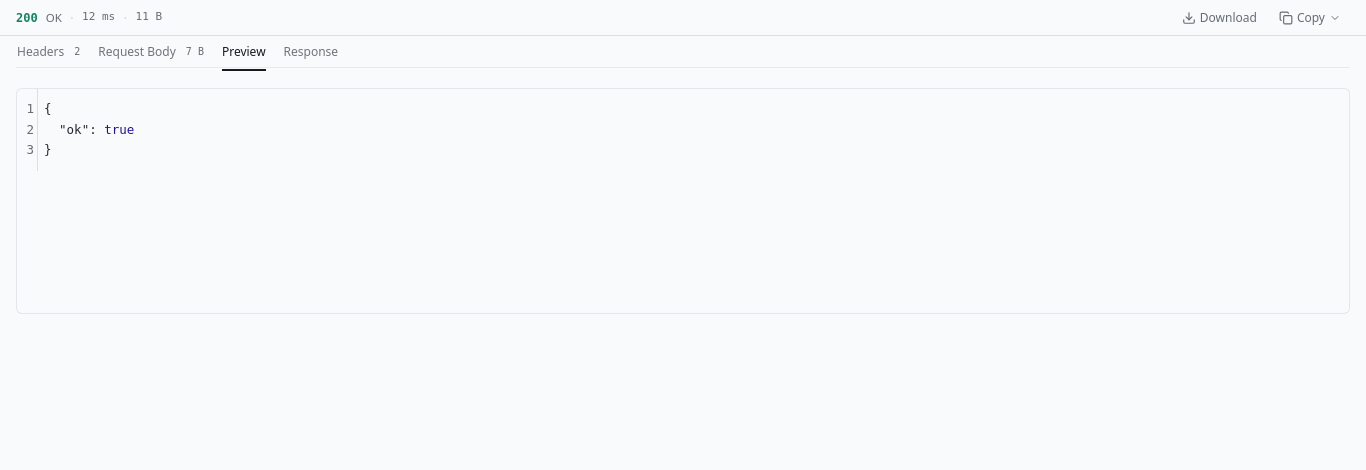
Test case: ResponsePanel — tabs › lists request and response headers under Headers
Click the tab "Headers 2".
click(49, 52)  # box [16, 36, 81, 66]
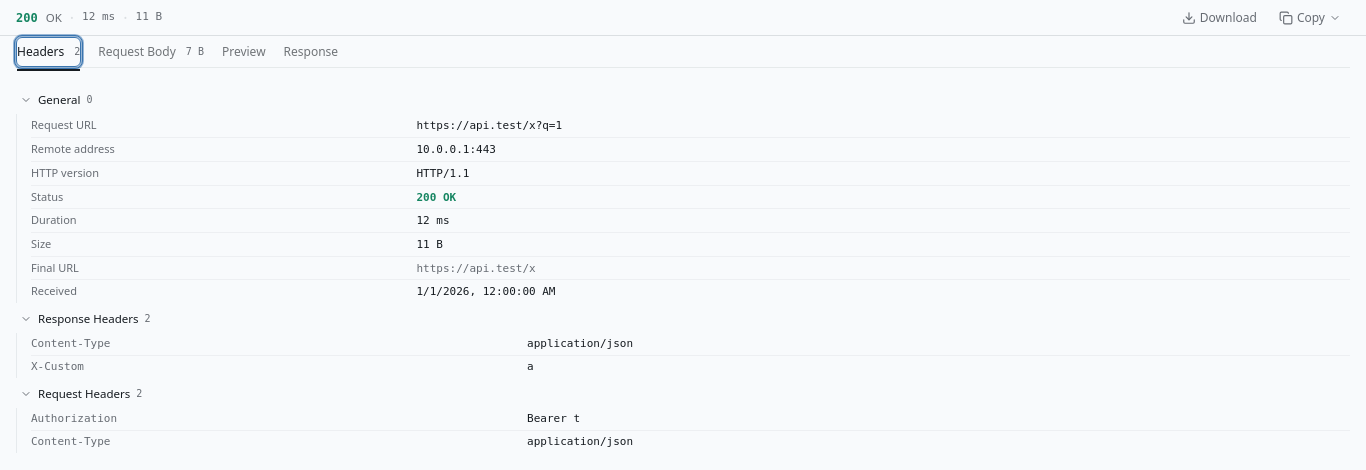
Expected: the text "General" is shown, [38, 92, 80, 108]
Expected: the text "Response Headers" is shown, [38, 311, 138, 327]
Expected: the text "Request Headers" is shown, [38, 386, 130, 402]
